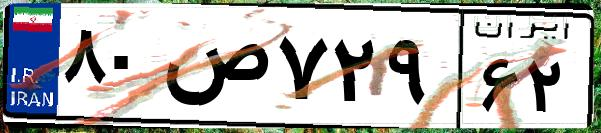0: (110, 28, 158, 98)
2: (330, 28, 385, 110), (525, 38, 570, 115)
6: (475, 38, 525, 113)
7: (270, 28, 330, 110)
8: (57, 26, 110, 100)
9: (385, 28, 445, 110)
ص: (158, 20, 270, 120)
